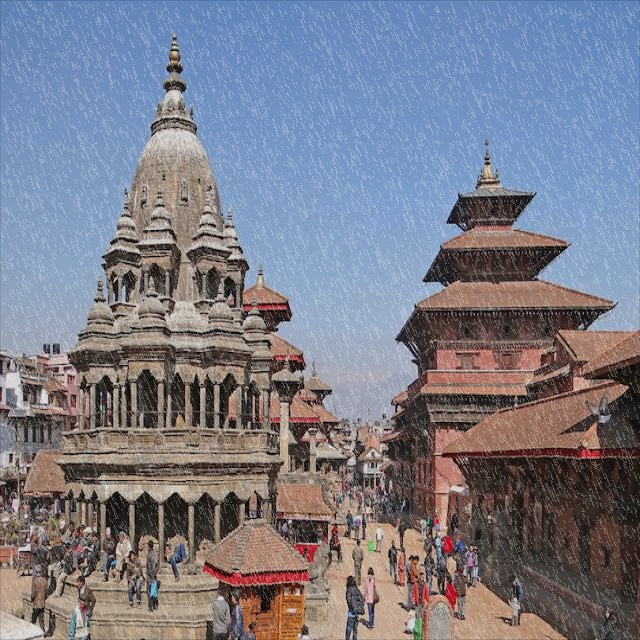pessoa: (418, 513, 464, 558), (51, 516, 92, 558), (342, 478, 398, 508), (344, 574, 366, 638), (31, 562, 50, 636), (52, 542, 74, 598), (110, 528, 132, 584), (144, 538, 160, 613), (362, 564, 380, 629), (68, 591, 92, 639), (78, 528, 101, 578), (163, 542, 190, 584), (210, 583, 230, 639), (76, 574, 98, 618), (411, 570, 430, 620), (508, 574, 526, 626), (592, 603, 618, 639), (101, 524, 117, 582), (126, 550, 142, 608), (228, 585, 244, 639), (454, 566, 468, 622), (409, 554, 421, 610), (351, 538, 364, 588), (30, 543, 48, 576), (423, 545, 437, 587), (404, 552, 414, 610), (464, 542, 476, 588), (329, 521, 342, 562), (444, 575, 458, 613), (387, 538, 398, 586), (42, 609, 58, 637), (446, 550, 458, 587), (436, 551, 446, 595), (506, 595, 520, 626), (397, 545, 407, 588), (284, 518, 298, 546), (301, 545, 310, 586), (473, 544, 481, 588), (356, 612, 372, 634), (397, 517, 407, 550), (242, 618, 258, 638), (344, 508, 354, 540), (172, 408, 186, 430), (352, 509, 360, 542), (375, 522, 383, 554), (48, 568, 56, 600), (400, 493, 411, 516), (314, 520, 324, 545), (360, 511, 368, 542), (494, 614, 512, 627), (300, 623, 312, 639), (397, 598, 408, 612), (457, 556, 465, 572), (332, 492, 340, 506), (366, 508, 374, 520), (396, 514, 400, 534)
